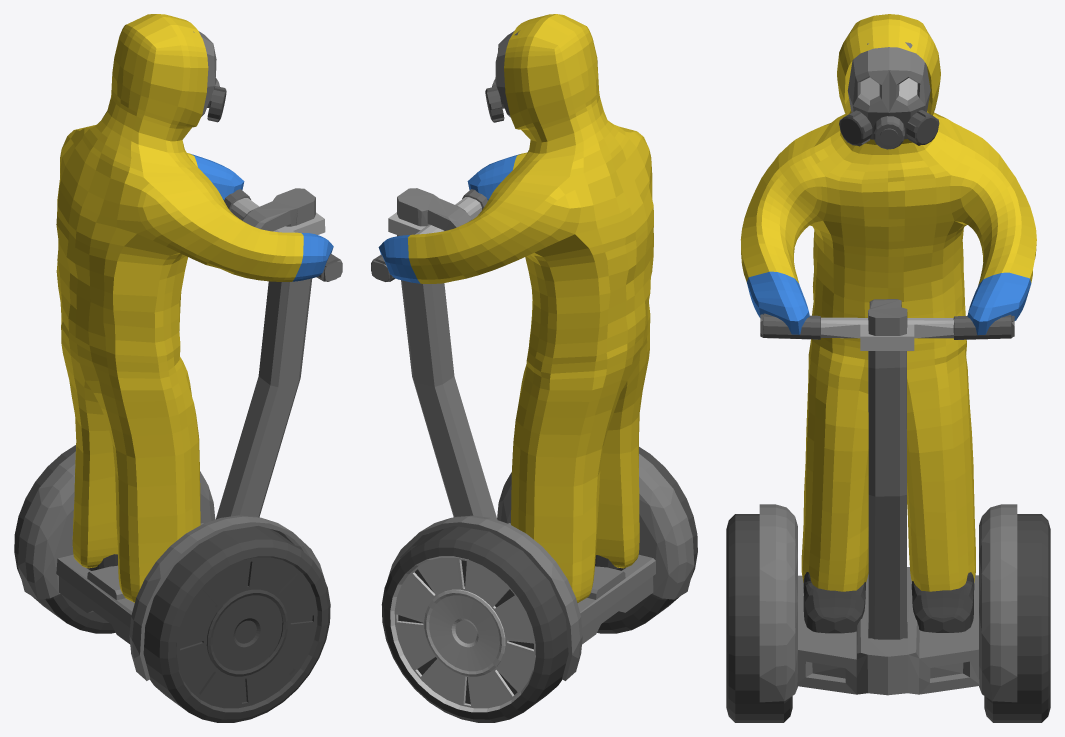
The model's file is _nemy.fbx.
3 views of the same model, side by side, from view 1: azimuth 30°, elevation 25°; view 2: azimuth 150°, elevation 25°; view 3: azimuth 270°, elevation 25° (orthographic). The views are drawn at different scales.
Parts seen in each view (by area): view 1: Cube.001, Cylinder.001; view 2: Cube.001, Cylinder.001; view 3: Cube.001, Cylinder.001.
Boxes of the visible parts, left/top/right/bottom form: Cube.001: left=18, top=14, right=342, bottom=680; Cylinder.001: left=14, top=445, right=330, bottom=722; Cube.001: left=371, top=14, right=694, bottom=680; Cylinder.001: left=381, top=447, right=697, bottom=722; Cube.001: left=740, top=14, right=1036, bottom=702; Cylinder.001: left=726, top=514, right=1050, bottom=722.
Bounding box in the file's own units: 332 × 874 × 373.
